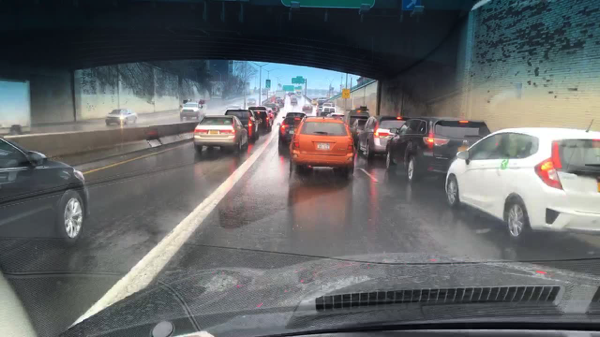car: (442, 127, 599, 244), (1, 136, 89, 247), (383, 117, 491, 184), (289, 116, 356, 176), (356, 116, 411, 161), (192, 115, 249, 154), (225, 109, 259, 144), (277, 117, 303, 146), (248, 105, 272, 133), (104, 108, 139, 126), (349, 118, 367, 148), (179, 101, 205, 119), (253, 112, 272, 135), (346, 111, 370, 124), (282, 111, 307, 119), (264, 102, 281, 112), (265, 107, 275, 124), (328, 113, 345, 120), (301, 104, 313, 113), (315, 110, 332, 116), (268, 106, 278, 116), (274, 99, 285, 108), (323, 106, 336, 113), (290, 97, 298, 106), (247, 98, 256, 106), (316, 98, 325, 105), (273, 96, 281, 103), (322, 102, 332, 107), (295, 90, 302, 97), (311, 98, 316, 106), (316, 106, 323, 111), (261, 89, 266, 96), (287, 92, 295, 96), (326, 99, 334, 103), (268, 91, 273, 96)
traffic sign: (341, 88, 350, 100), (290, 78, 304, 84), (282, 85, 294, 91), (266, 79, 271, 88), (294, 86, 302, 90), (295, 76, 302, 79)
